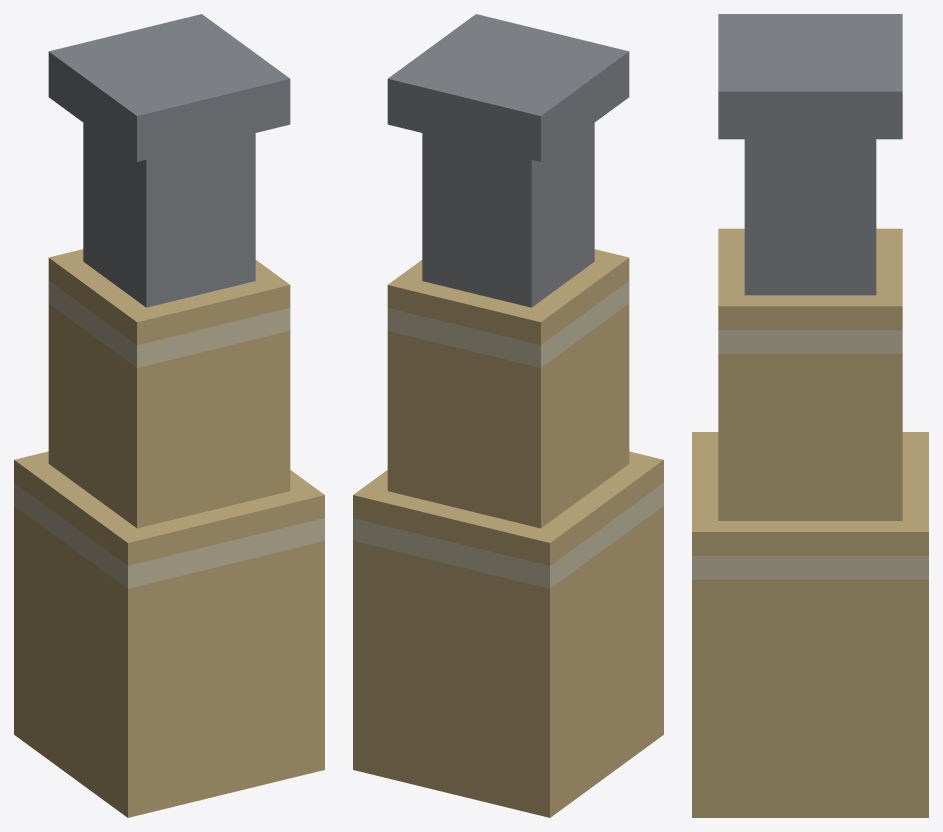
Rendered from mast.glb.
3 views of the same model, side by side, from view 1: azimuth 30°, elevation 25°; view 2: azimuth 150°, elevation 25°; view 3: azimuth 270°, elevation 25° (orthographic). The views are drawn at different scales.
Bounding box in the file's own units: 9 × 30 × 9.
